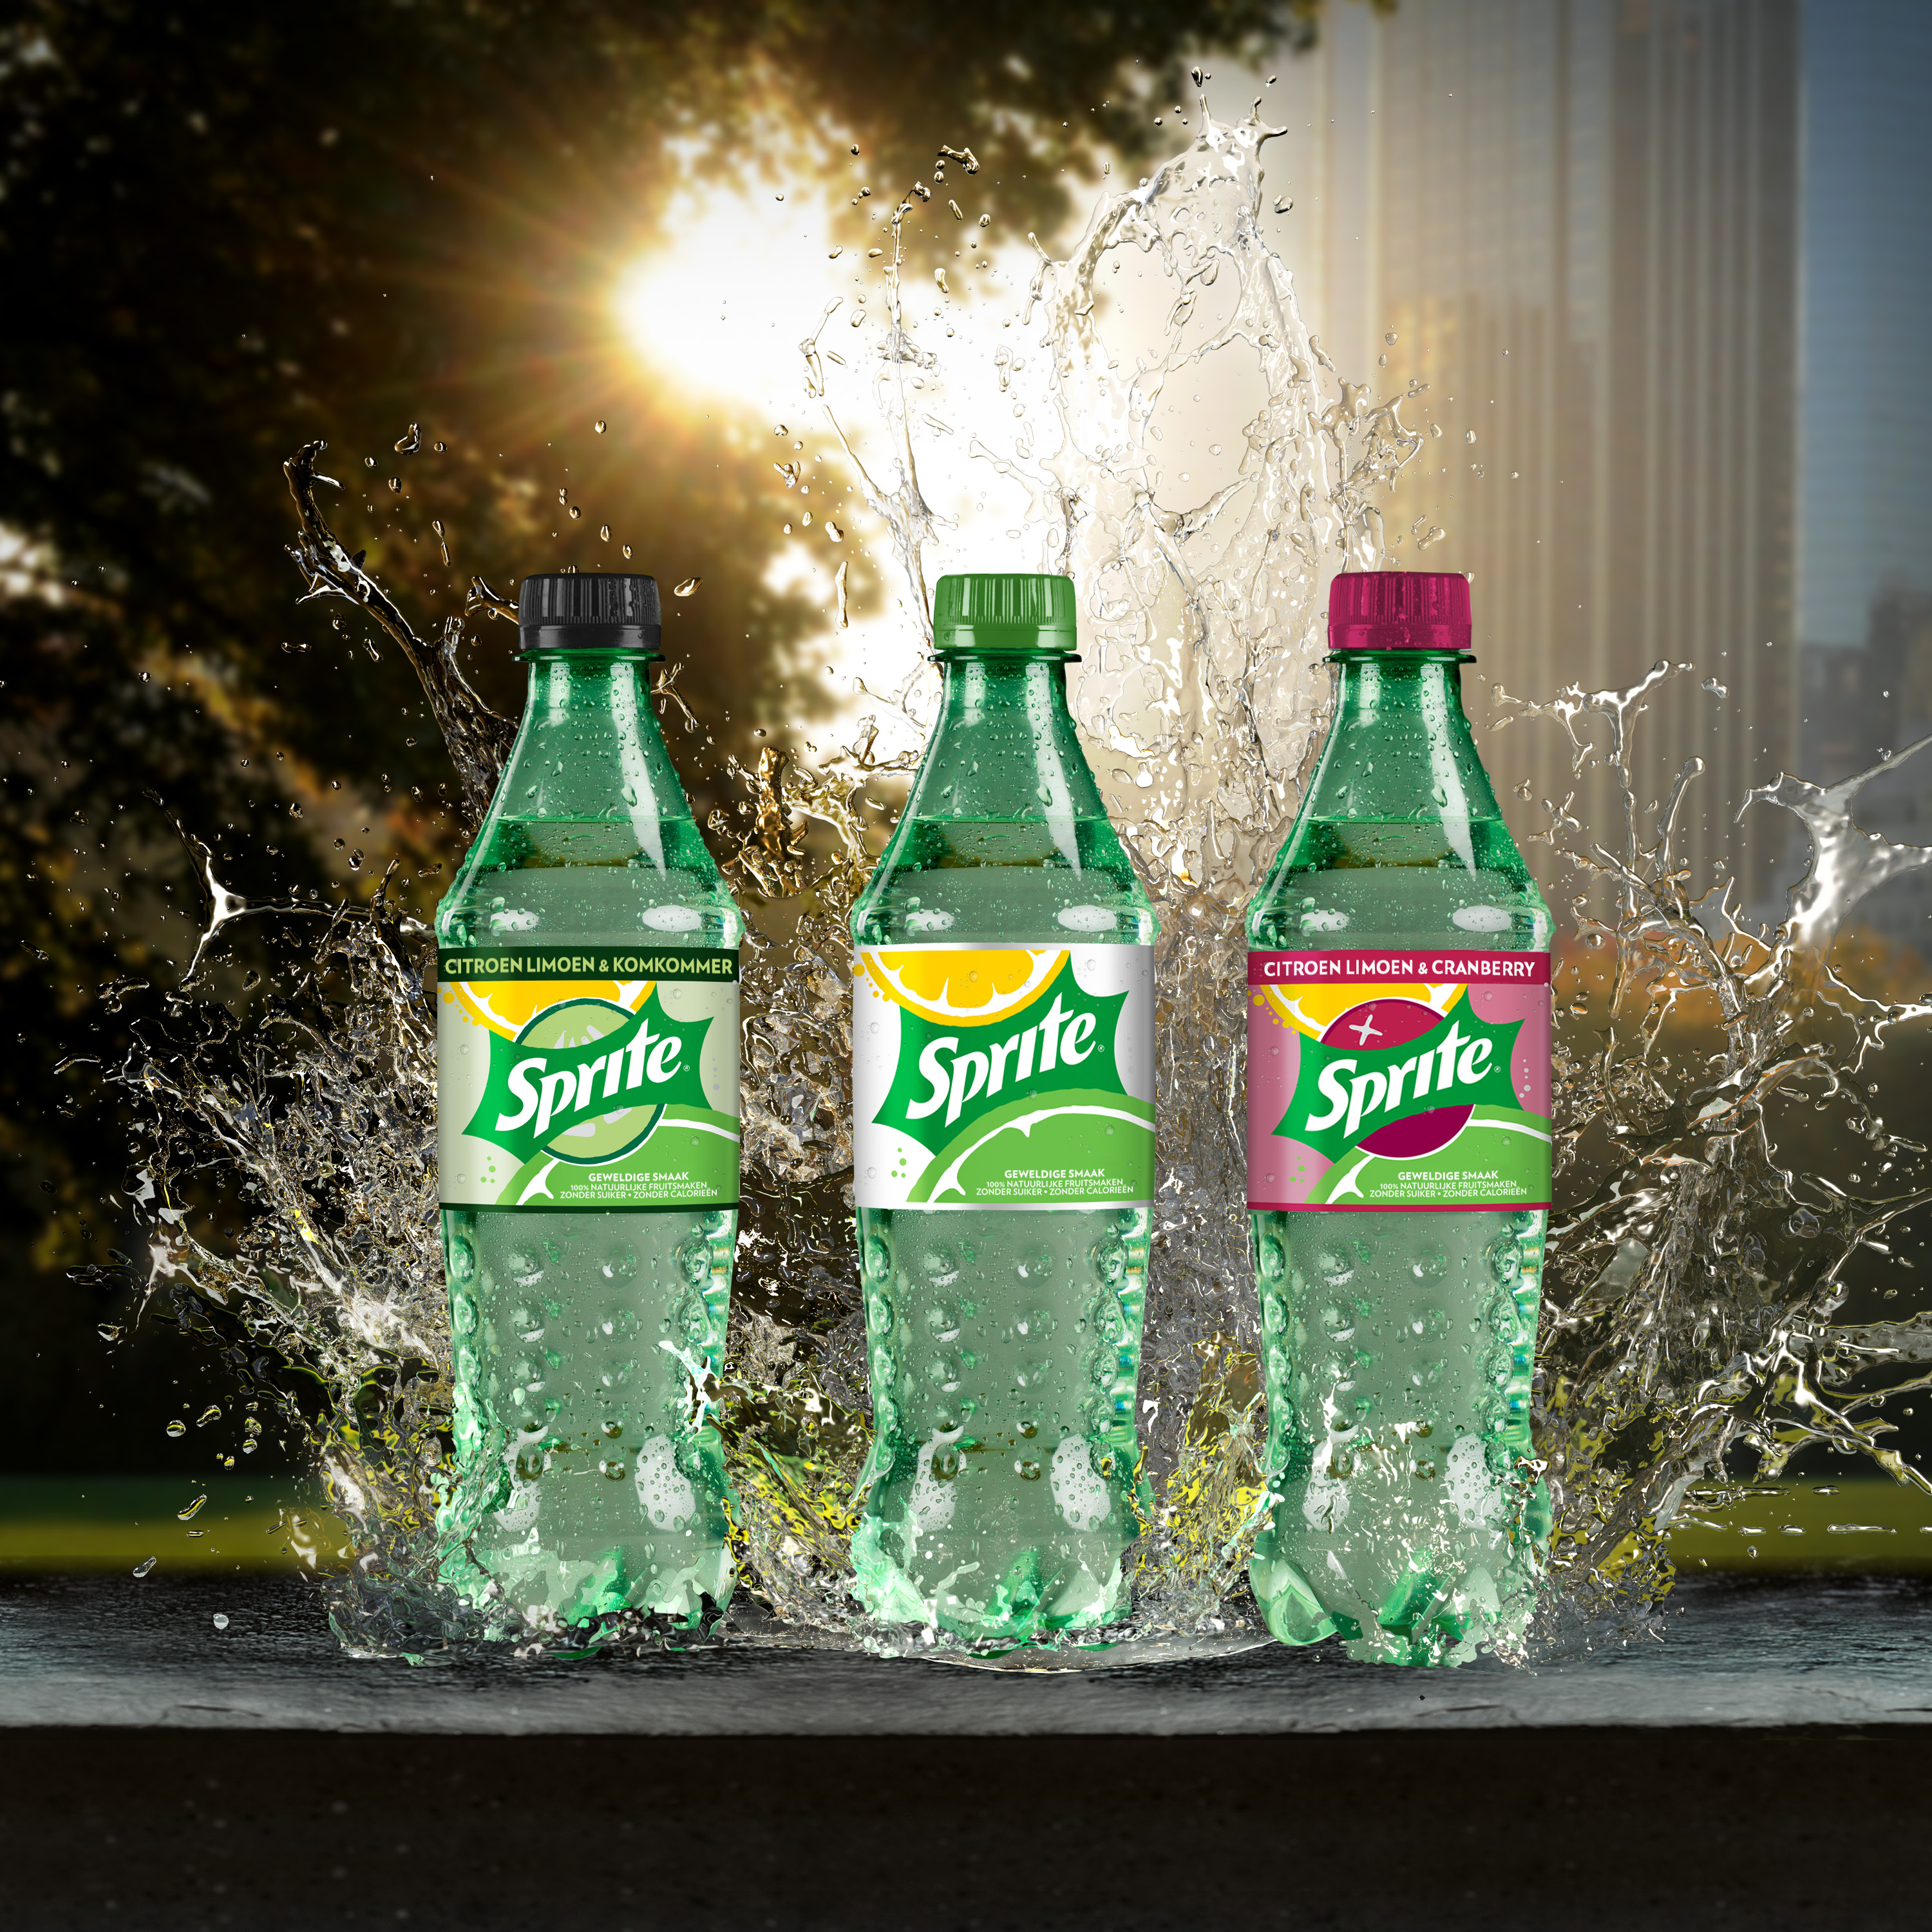Sprite: (1244, 552, 1513, 1637), (464, 529, 732, 1612), (863, 594, 1132, 1677)
